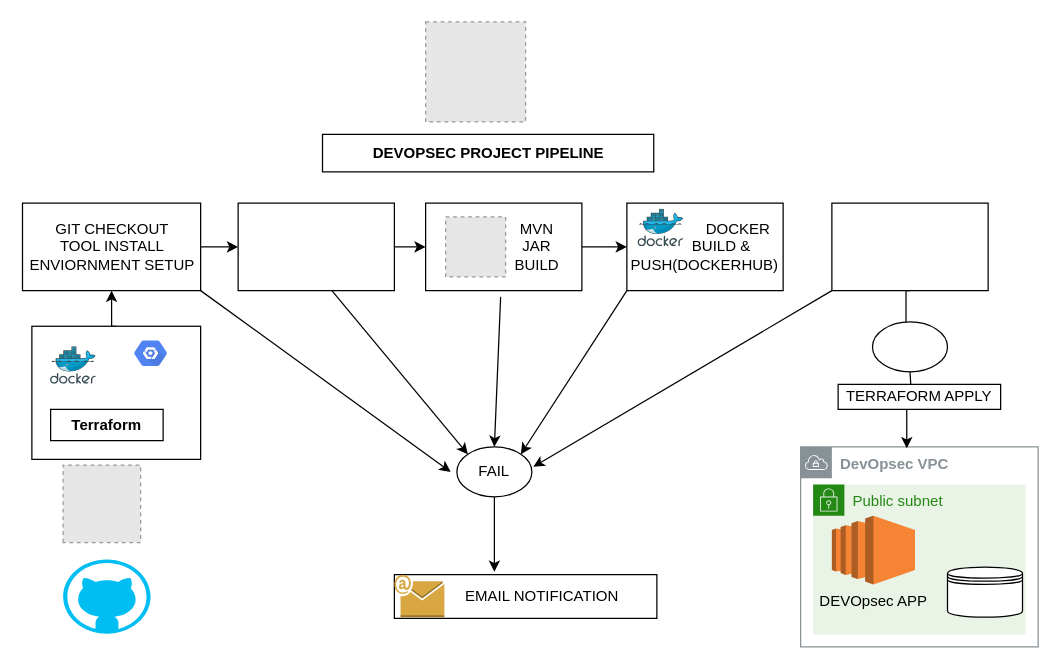
The diagram is 1060 pixels wide and 669 high, and some of its shapes have lost their labels. Grey dashed boxes stand in for pictures. Here are the shapes that lost their labels. From the top down, the centre of each, then its label:
the point at 315,246: SONAR CUBE SCAN STATIC CODE ANALYSIS
the point at 909,246: TERRAFORM PLAN TERRAFORM VALIDATE
the point at 150,352: Maven App Engine Plugin
the point at 909,346: PASS
the point at 984,591: Database
